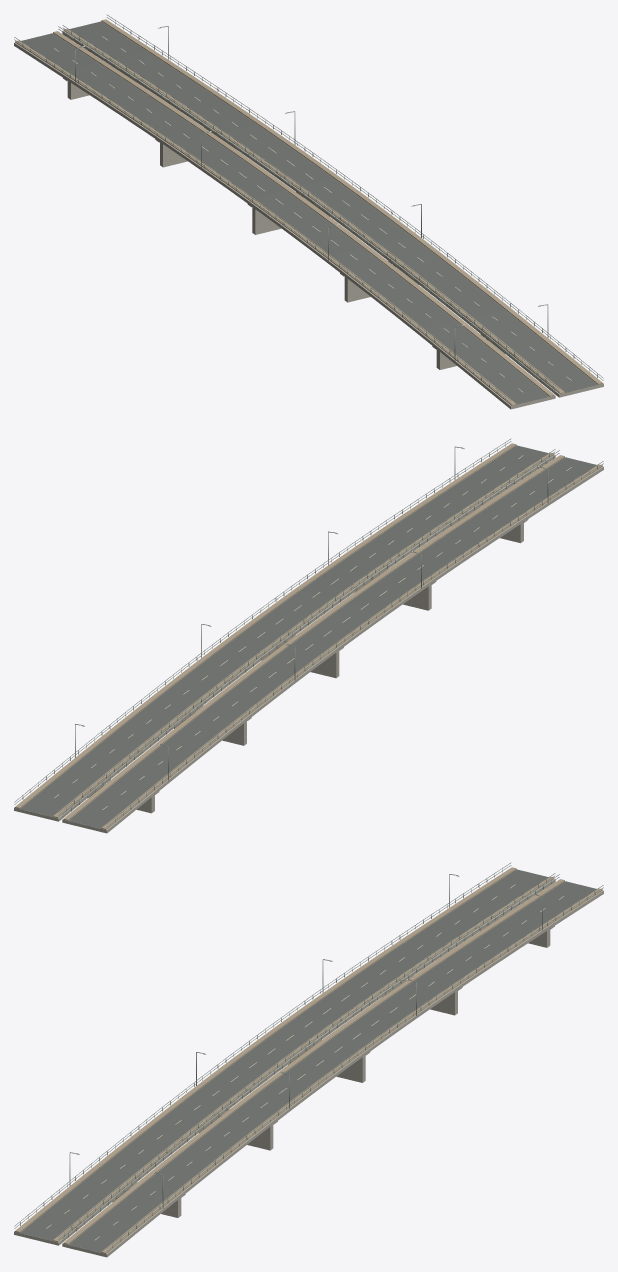
The model's file is long-xuyen-hoang-dieu-bridge.glb.
3 renders of one model, top to bottom at view 1: azimuth 30°, elevation 25°; view 2: azimuth 150°, elevation 25°; view 3: azimuth 330°, elevation 25°, orthographic.
Visible parts, largest first — view 1: Hoang_Dieu_asphalt, Hoang_Dieu_paving, Hoang_Dieu_stone, Hoang_Dieu_metal; view 2: Hoang_Dieu_asphalt, Hoang_Dieu_paving, Hoang_Dieu_stone, Hoang_Dieu_metal; view 3: Hoang_Dieu_asphalt, Hoang_Dieu_paving, Hoang_Dieu_stone, Hoang_Dieu_metal.
Part boxes in pixels (bbox=[...]): Hoang_Dieu_asphalt: bbox=[21, 21, 597, 404]; Hoang_Dieu_paving: bbox=[15, 19, 602, 405]; Hoang_Dieu_stone: bbox=[14, 22, 603, 409]; Hoang_Dieu_metal: bbox=[14, 14, 603, 403]; Hoang_Dieu_asphalt: bbox=[20, 445, 596, 828]; Hoang_Dieu_paving: bbox=[15, 443, 602, 829]; Hoang_Dieu_stone: bbox=[14, 446, 603, 833]; Hoang_Dieu_metal: bbox=[14, 438, 603, 827]; Hoang_Dieu_asphalt: bbox=[20, 869, 596, 1252]; Hoang_Dieu_paving: bbox=[15, 867, 602, 1253]; Hoang_Dieu_stone: bbox=[14, 870, 603, 1257]; Hoang_Dieu_metal: bbox=[14, 862, 603, 1251].
Size of the model in its own units: 20.55 by 14.06 by 188.
Materials: 6 (2 with a texture image).
